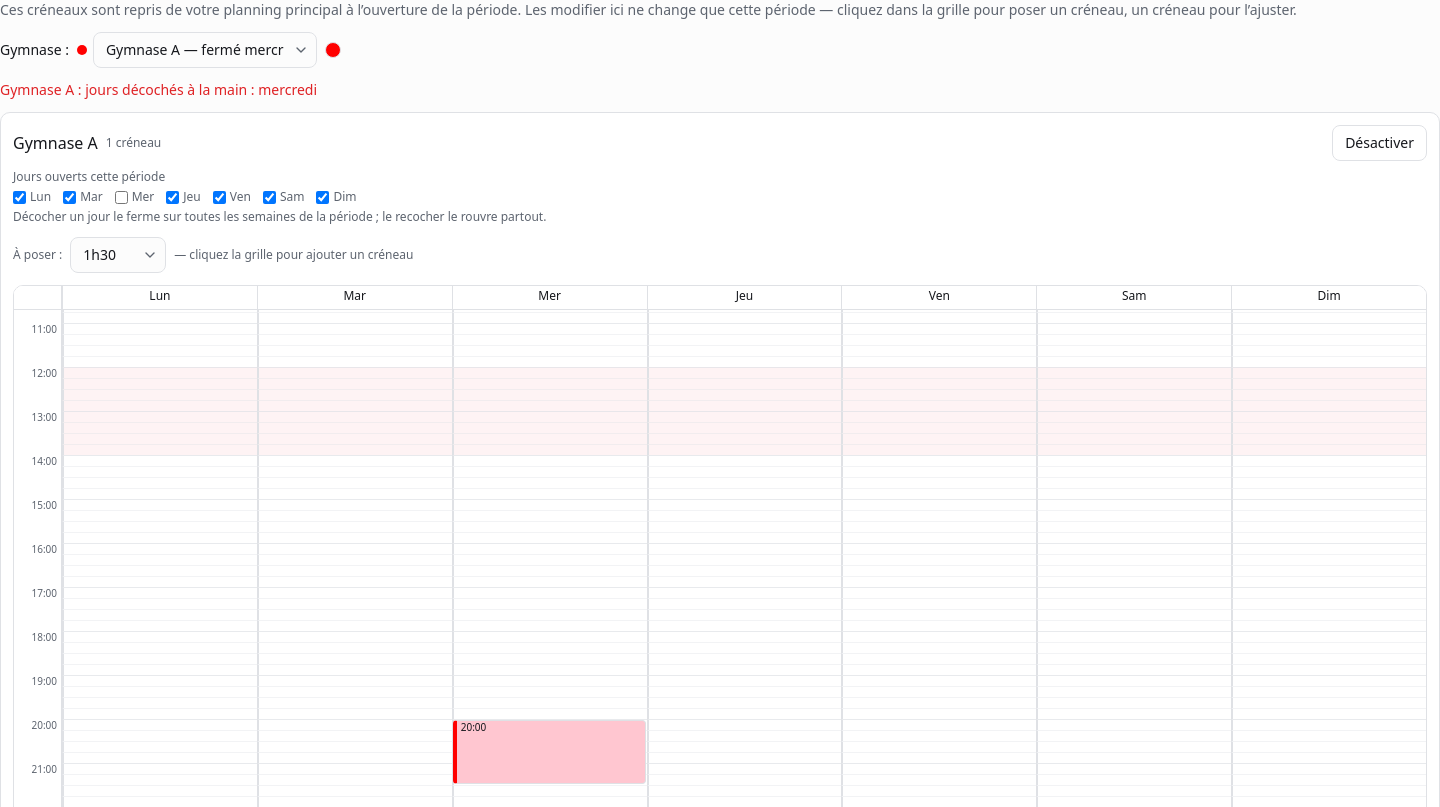
Scenario: PeriodSlotEditor — dit qu'un créneau tombe un jour fermé (P2-43 volet i) › décoché à la main : la cause le dit (« décoché manuellement »)
(page scrolled)
Click the button titled "20:00 · Mer 1h30 · capacité 1 — modifier".
click(549, 752)  # box x1=453 y1=720 x2=646 y2=784
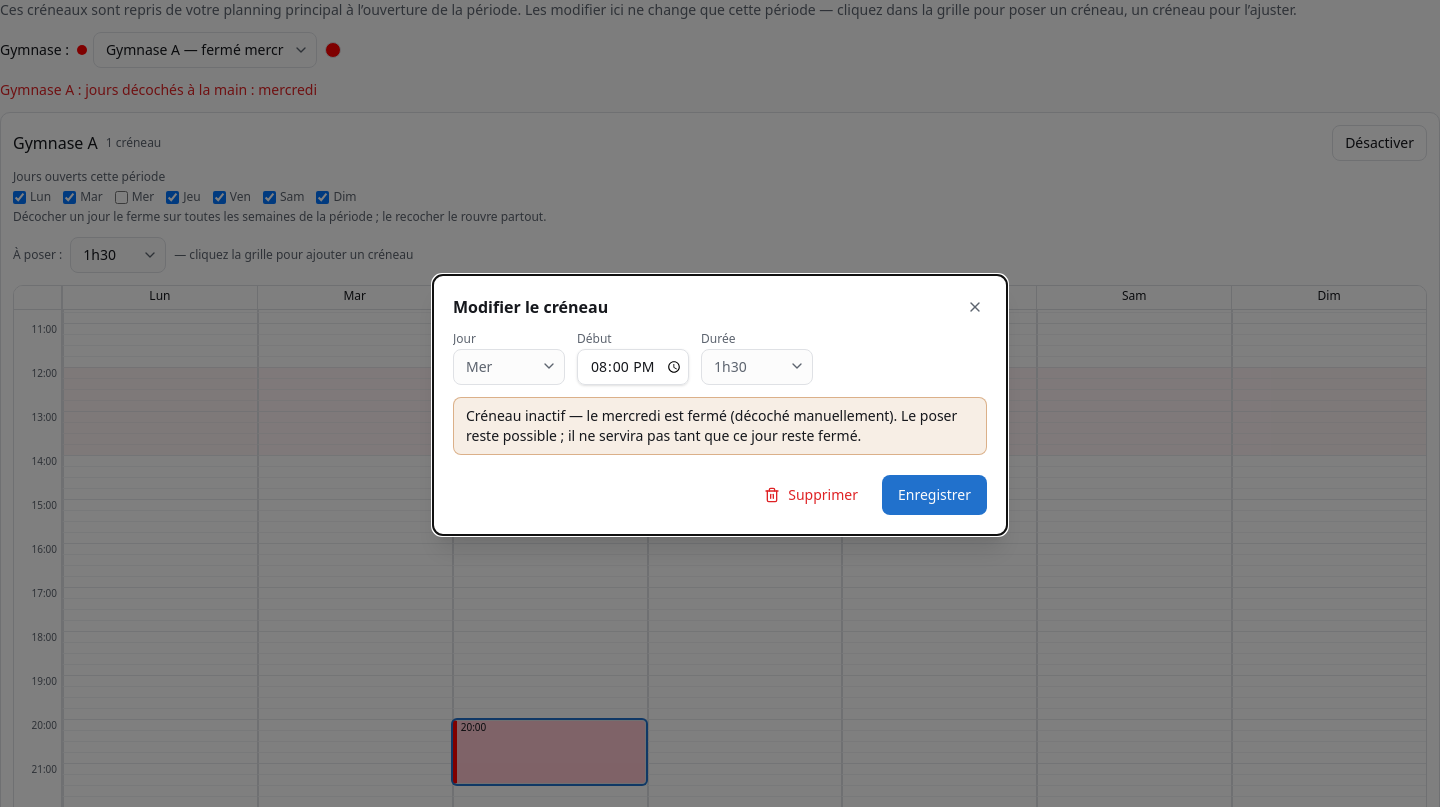
expect the text "Créneau inactif — le mercredi est fermé" is shown: met, box x1=453 y1=397 x2=987 y2=455
expect the text "décoché manuellement" is shown: met, box x1=735 y1=406 x2=889 y2=425
